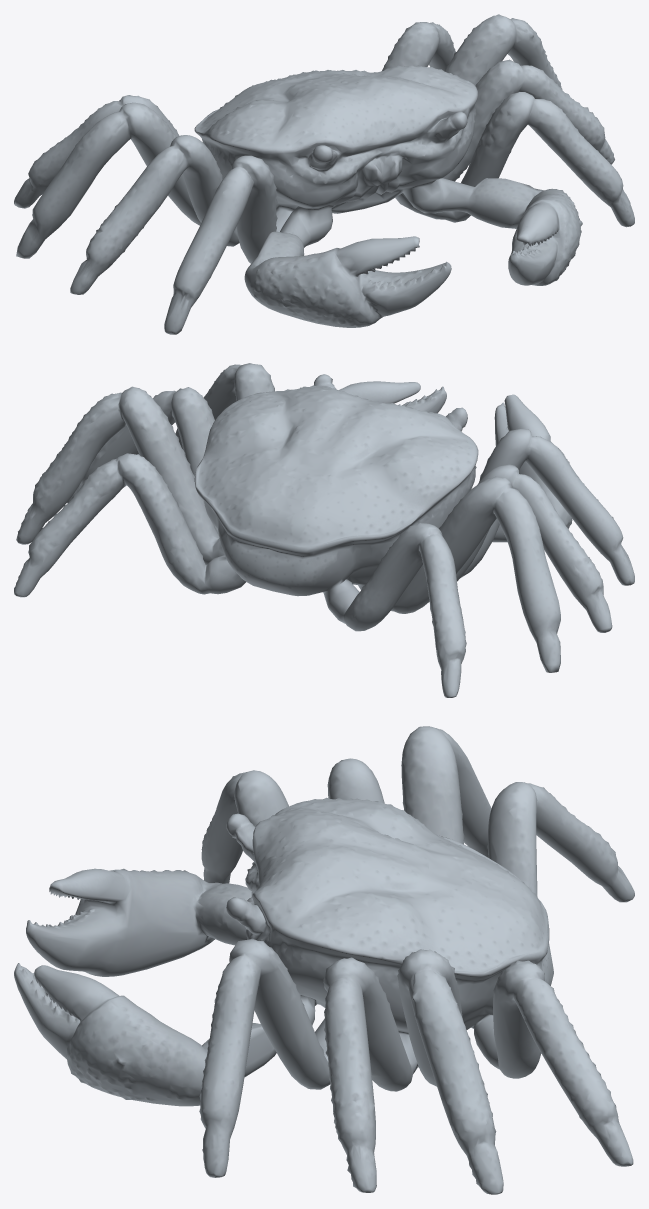
File: giant_crab.glb
3 views of the same model, one above another, from view 1: azimuth 30°, elevation 25°; view 2: azimuth 150°, elevation 25°; view 3: azimuth 270°, elevation 25° (orthographic). The views are drawn at different scales.
Visible parts, largest first — view 1: Crab_t.001; view 2: Crab_t.001; view 3: Crab_t.001.
Part boxes in pixels (bbox=[...]): Crab_t.001: bbox=[14, 14, 634, 334]; Crab_t.001: bbox=[14, 363, 634, 697]; Crab_t.001: bbox=[14, 726, 634, 1194].
Bounding box in the file's own units: 61.7 × 17.39 × 48.86.
1 material, 1 textured.
